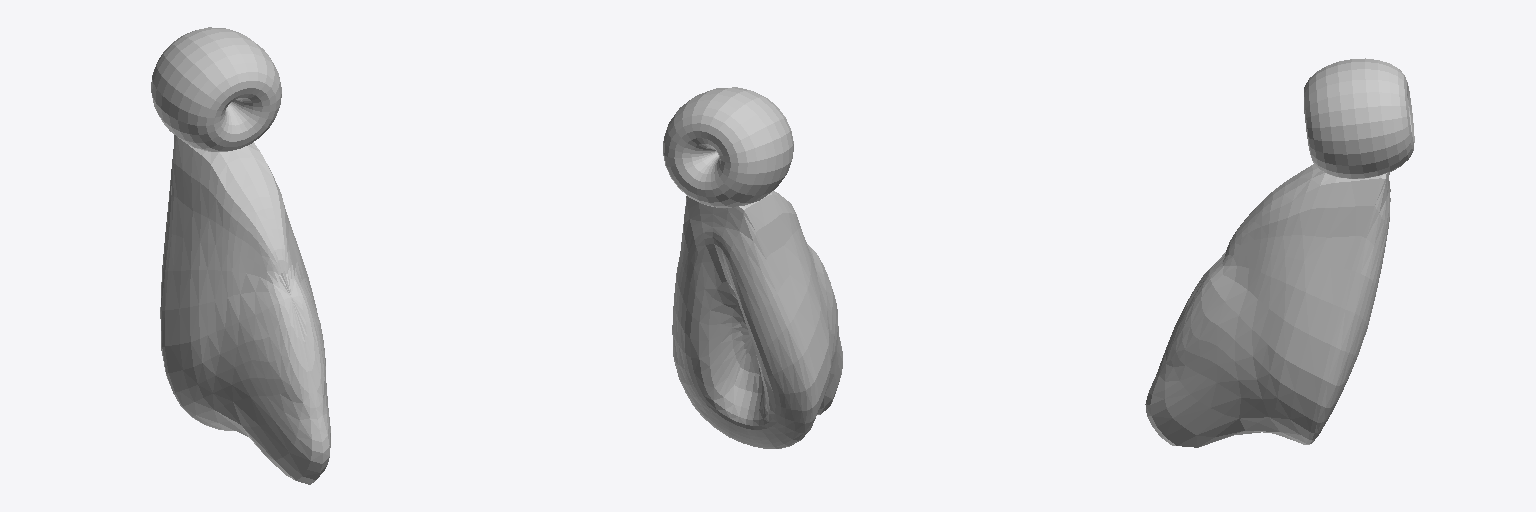
File: Vag_base 2.7.obj
3 renders of one model, left to right at view 1: azimuth 30°, elevation 25°; view 2: azimuth 150°, elevation 25°; view 3: azimuth 270°, elevation 25°, orthographic.
Parts seen in each view (by area): view 1: vag_base_Mesh1_Component_4_1_Component_6_1_Model.001; view 2: vag_base_Mesh1_Component_4_1_Component_6_1_Model.001; view 3: vag_base_Mesh1_Component_4_1_Component_6_1_Model.001.
Boxes of the visible parts, x1,y1,x2,y2 form: vag_base_Mesh1_Component_4_1_Component_6_1_Model.001: [151, 27, 330, 484]; vag_base_Mesh1_Component_4_1_Component_6_1_Model.001: [663, 87, 842, 448]; vag_base_Mesh1_Component_4_1_Component_6_1_Model.001: [1145, 58, 1414, 447].
Size of the model in its own units: 6.14 by 16.01 by 10.22.